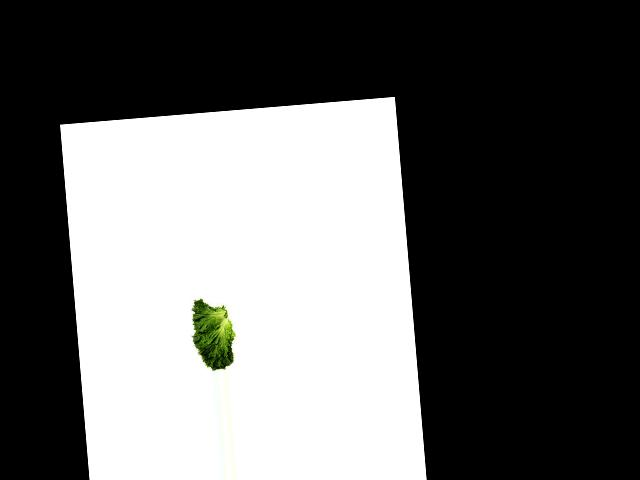lettuce: (184, 296, 240, 372)
